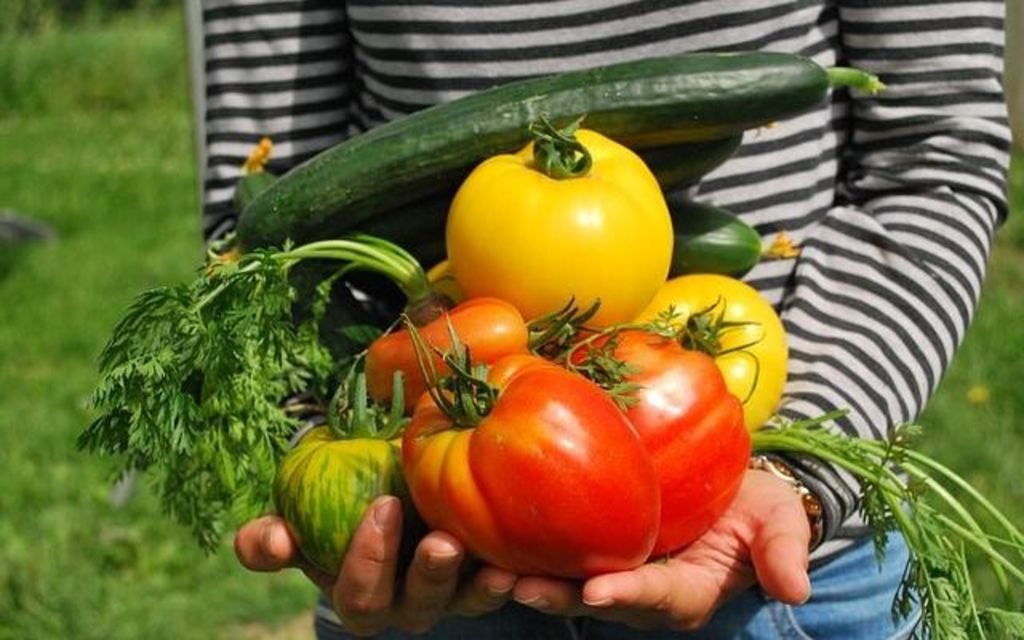Tomato: (275, 112, 796, 584), (412, 366, 644, 585)
